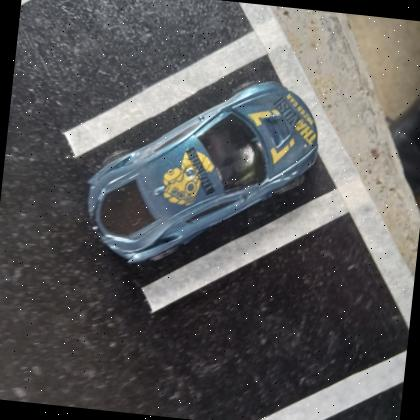Car: (86, 81, 317, 266)
